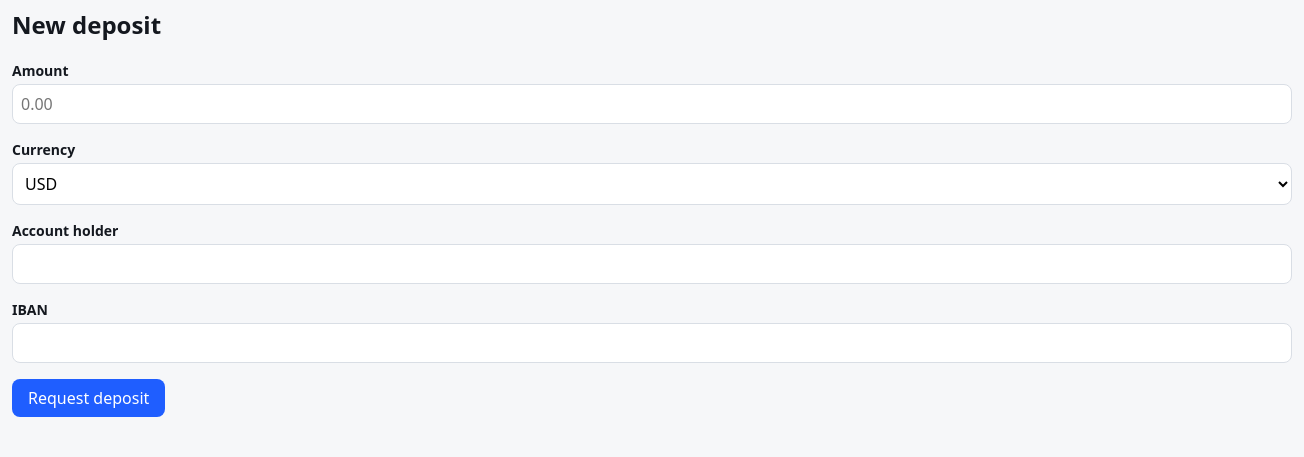
Test: DepositForm (S1, S4) › rejects amounts above the contract limit
The width and height of the screenshot is (1304, 457).
Type "1000000.01" into the field labelled "Amount".
click(652, 104); type("1000000.01")  # box [12,84,1292,124]
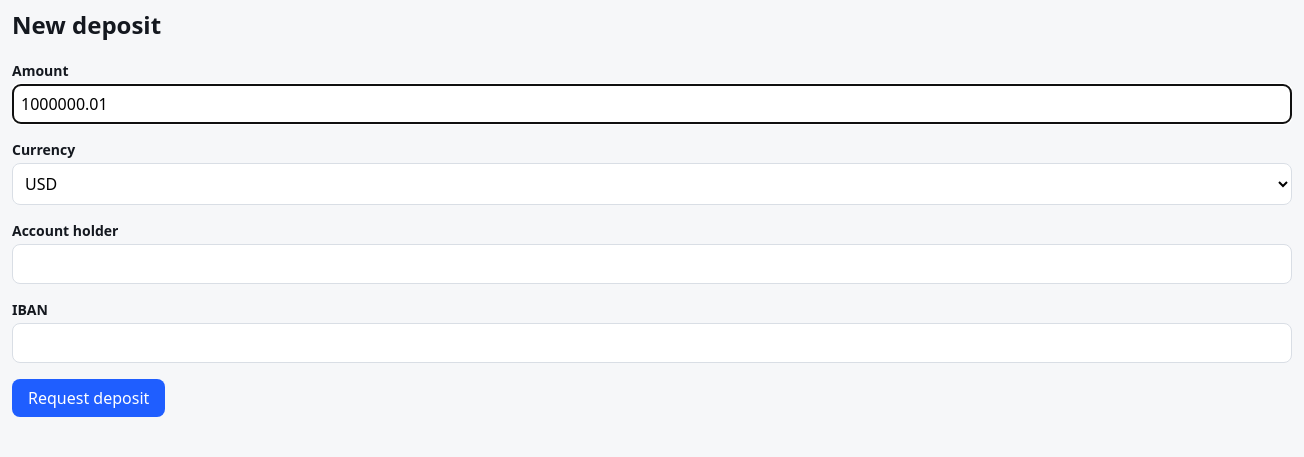
Type "Jane" into the field labelled "Account holder".
click(652, 264); type("Jane")  # box [12,244,1292,284]
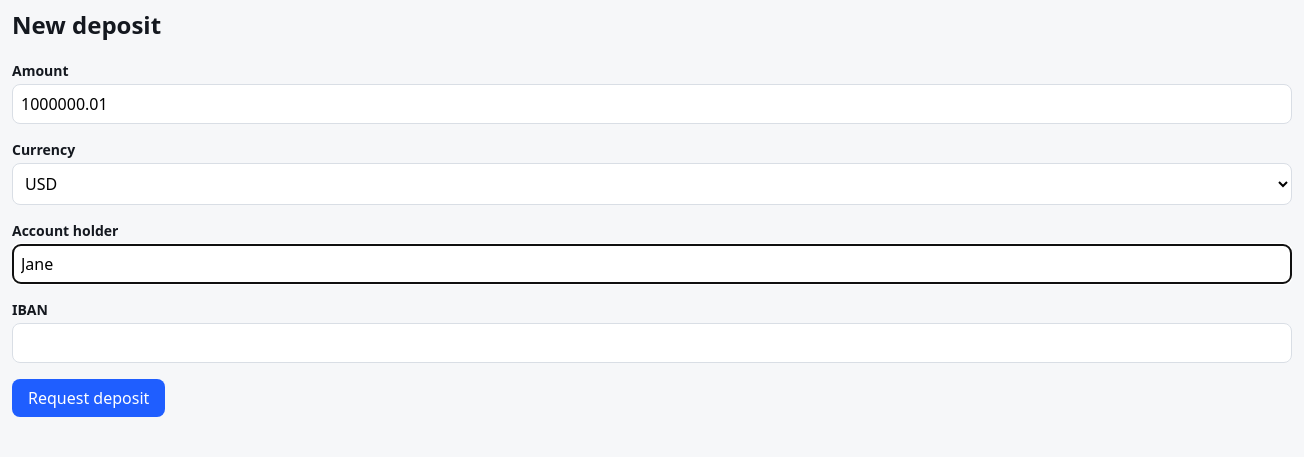
Type "GB82WEST12345698765432" into the field labelled "IBAN".
click(652, 343); type("GB82WEST12345698765432")  # box [12,323,1292,363]
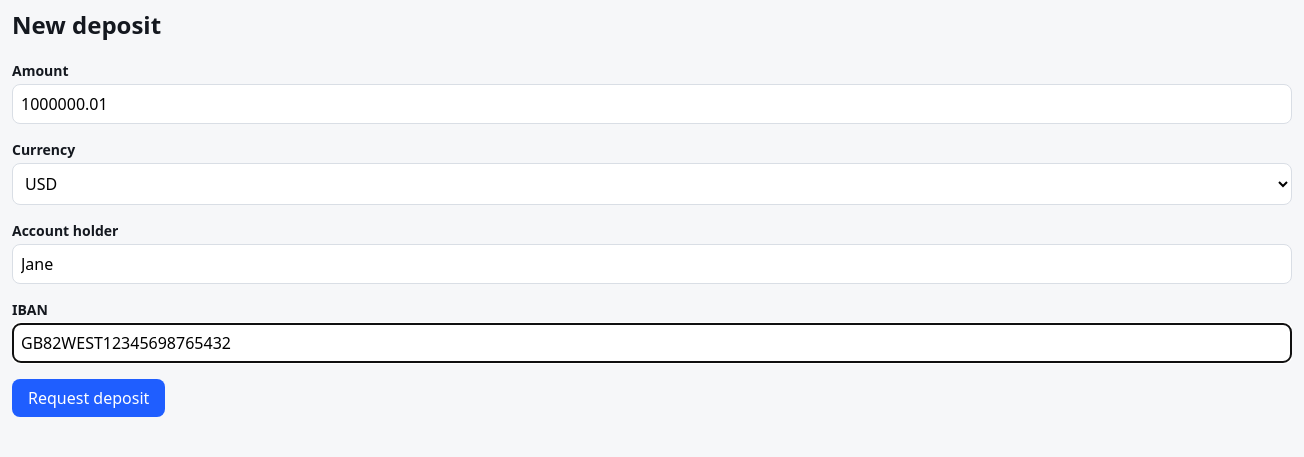
Click the button "Request deposit".
click(89, 398)  # box [12,379,165,417]
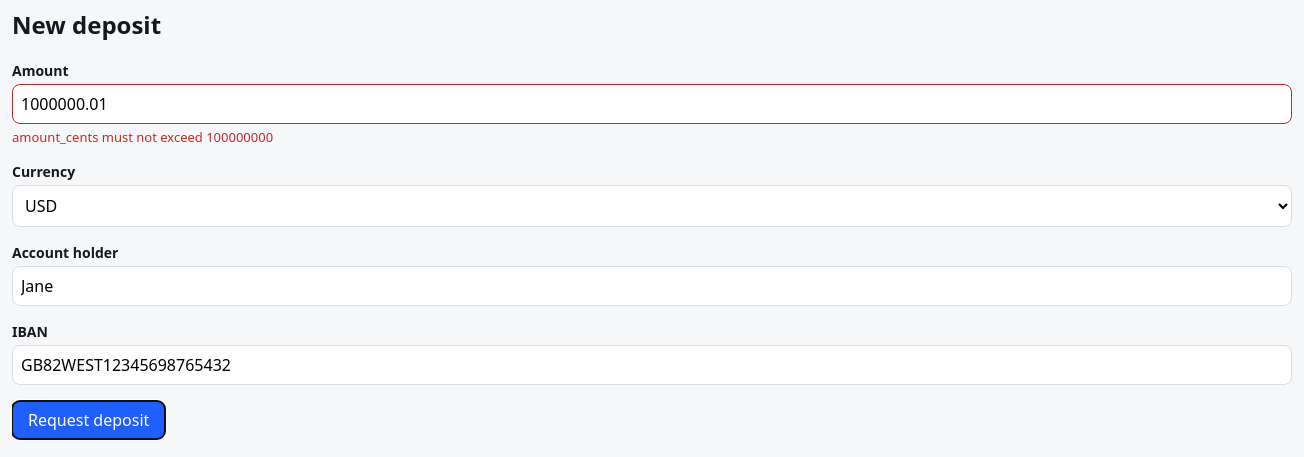
Check: the text "amount_cents must not exceed 100000000" is shown, box [12,128,273,146]
